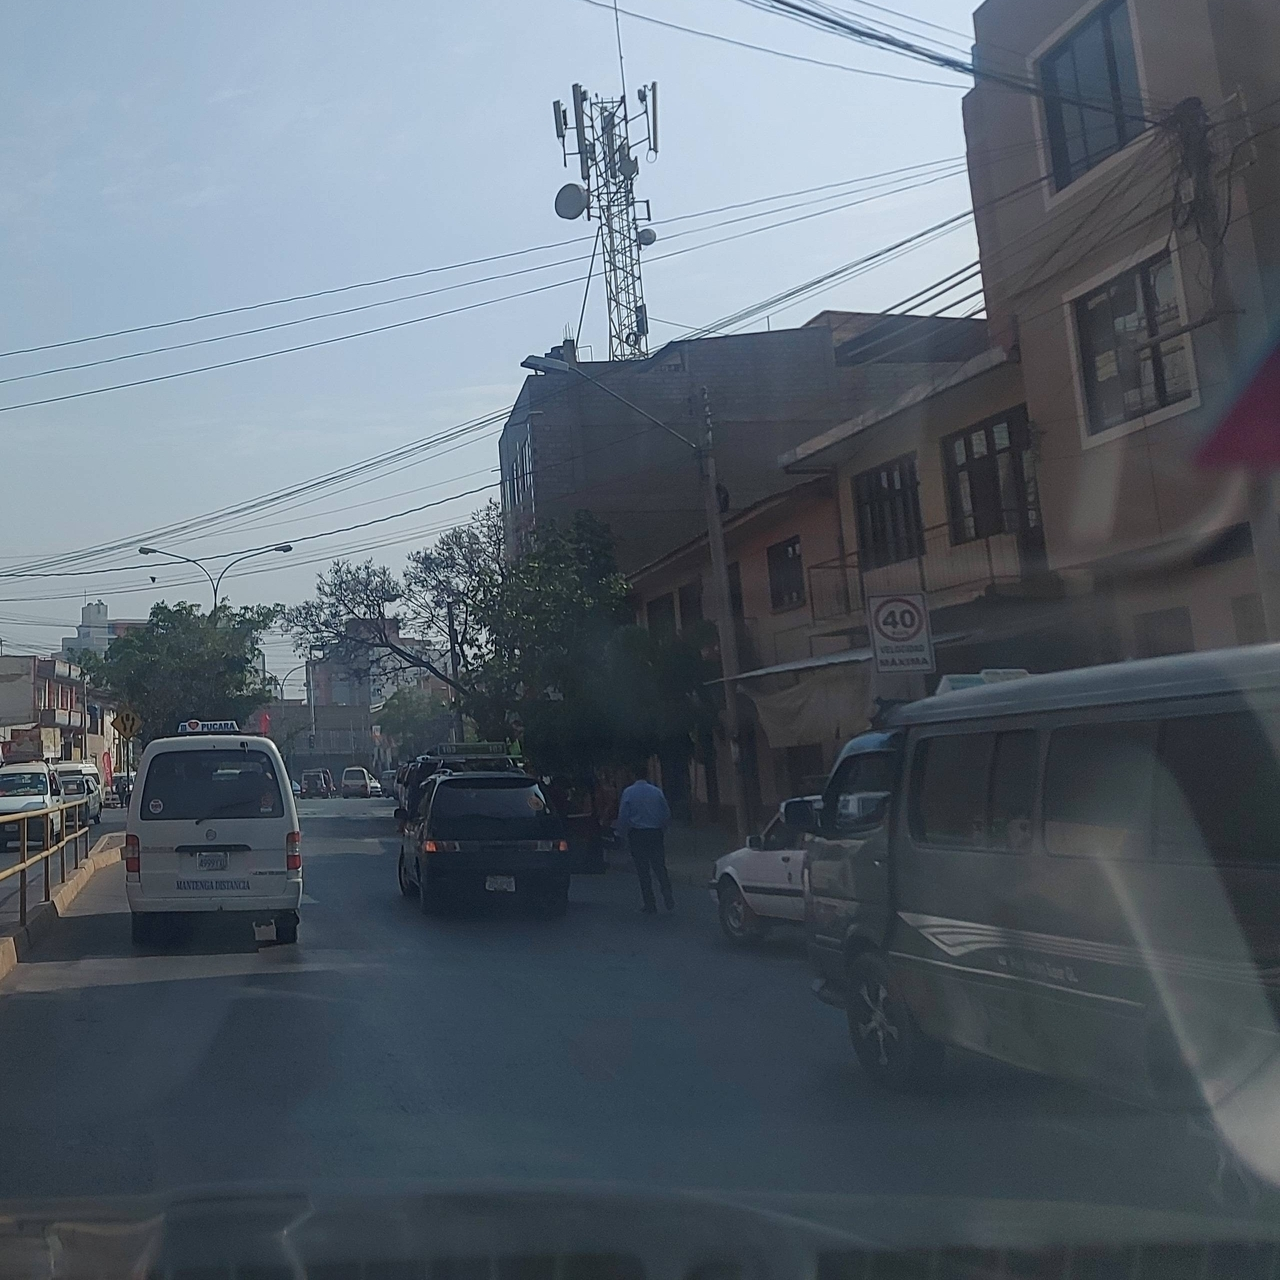limite-velocidad-40: (866, 590, 939, 675)
